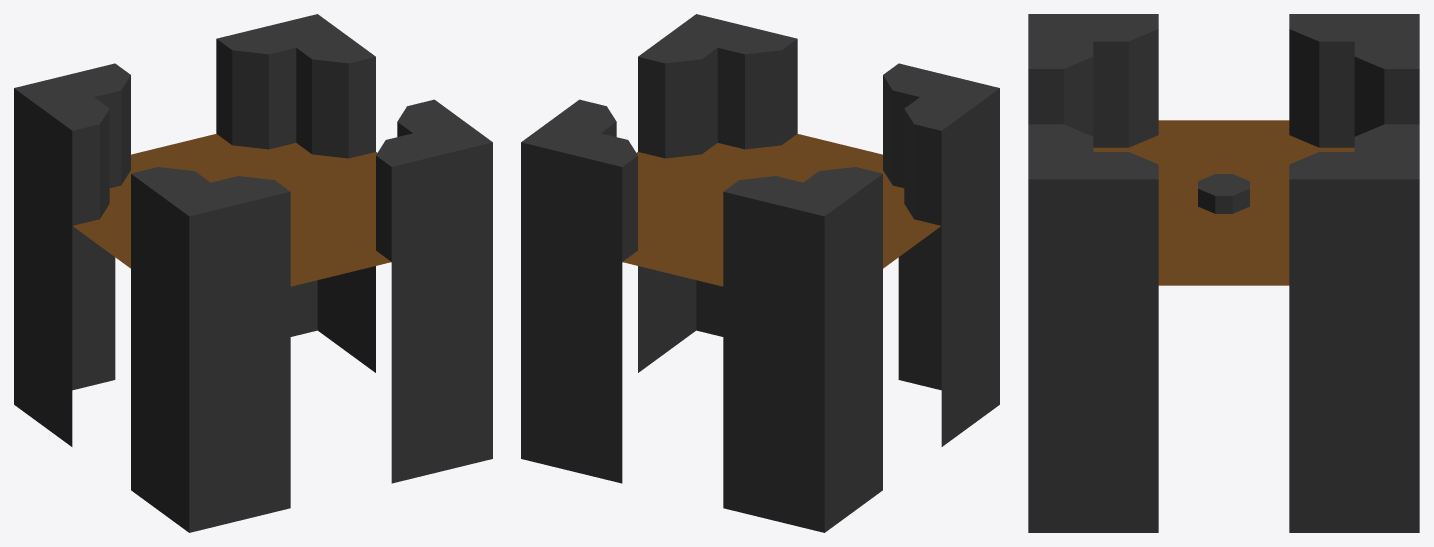
The model's file is cross.fbx.
3 renders of one model, left to right at view 1: azimuth 30°, elevation 25°; view 2: azimuth 150°, elevation 25°; view 3: azimuth 270°, elevation 25°, orthographic. The views are drawn at different scales.
Parts seen in each view (by area): view 1: Cross; view 2: Cross; view 3: Cross.
Boxes of the visible parts, <box> form: Cross: <box>14,14,492,532</box>; Cross: <box>521,14,999,532</box>; Cross: <box>1028,14,1419,532</box>.
Size of the model in its own units: 200 by 200 by 199.
